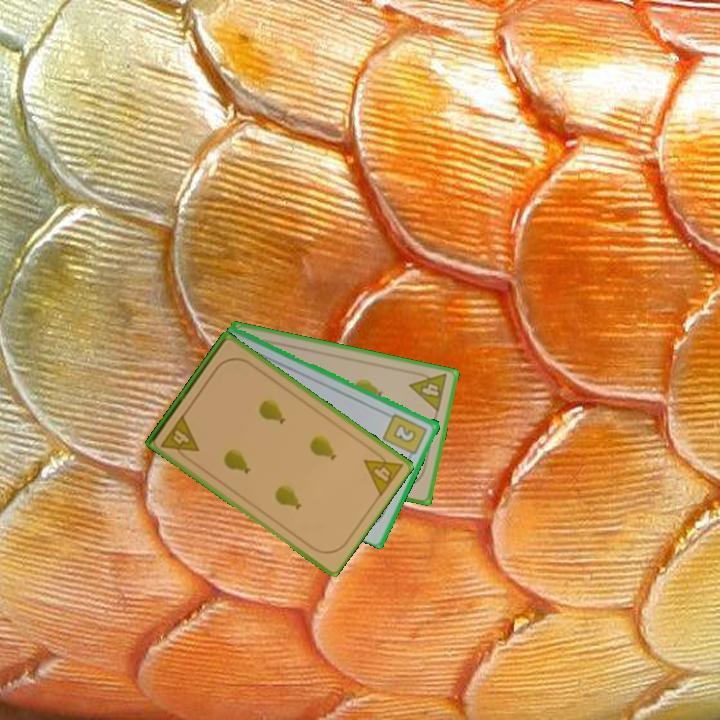2b: (380, 410, 430, 462)
4p: (360, 444, 405, 499), (157, 411, 202, 464), (406, 367, 450, 415)
